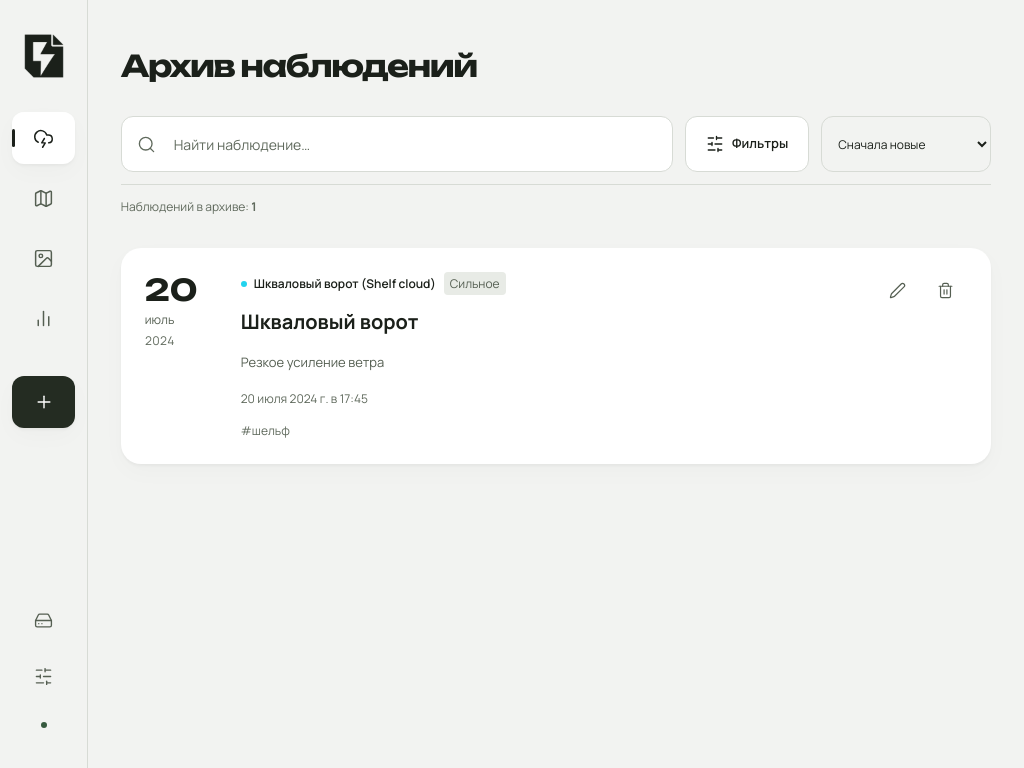
Test: viewing, editing and deleting › shows coordinates even when no location name was entered
Click the button "Шкваловый ворот": {"x": 330, "y": 321} [241,299,418,343]
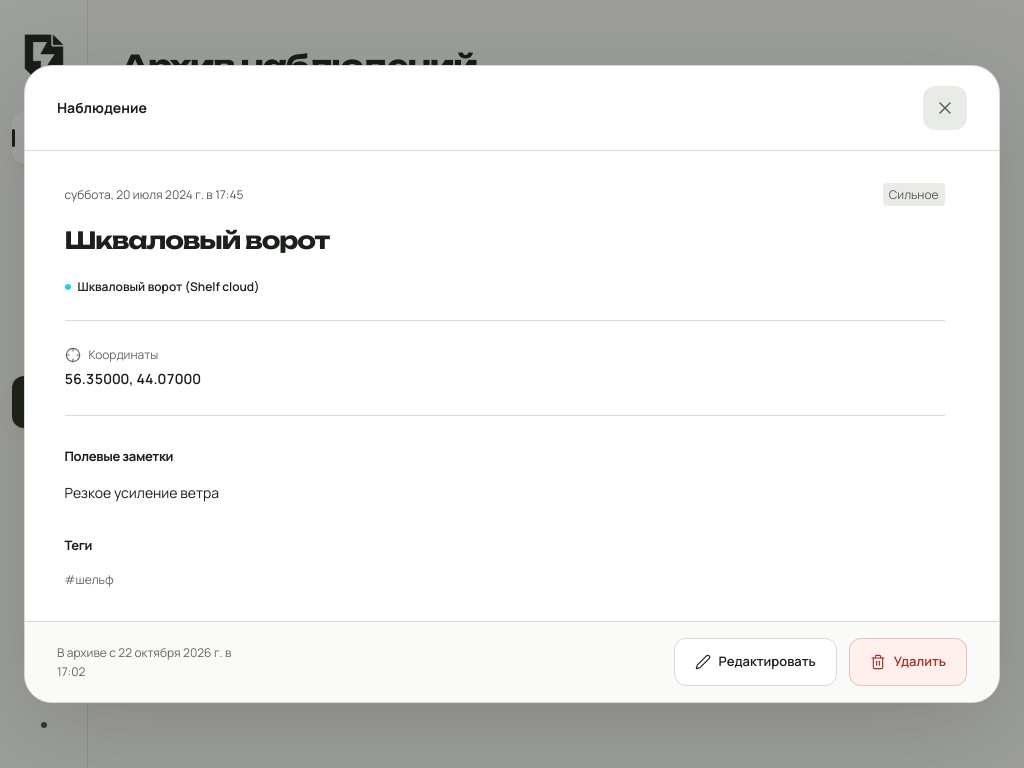
Expected: the text "Координаты" is shown, [64,346,158,363]
Expected: the text "56.35000, 44.07000" is shown, [64,370,201,388]
